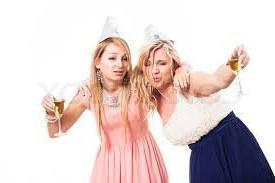Drunk: (101, 45, 129, 81), (146, 52, 172, 88)
